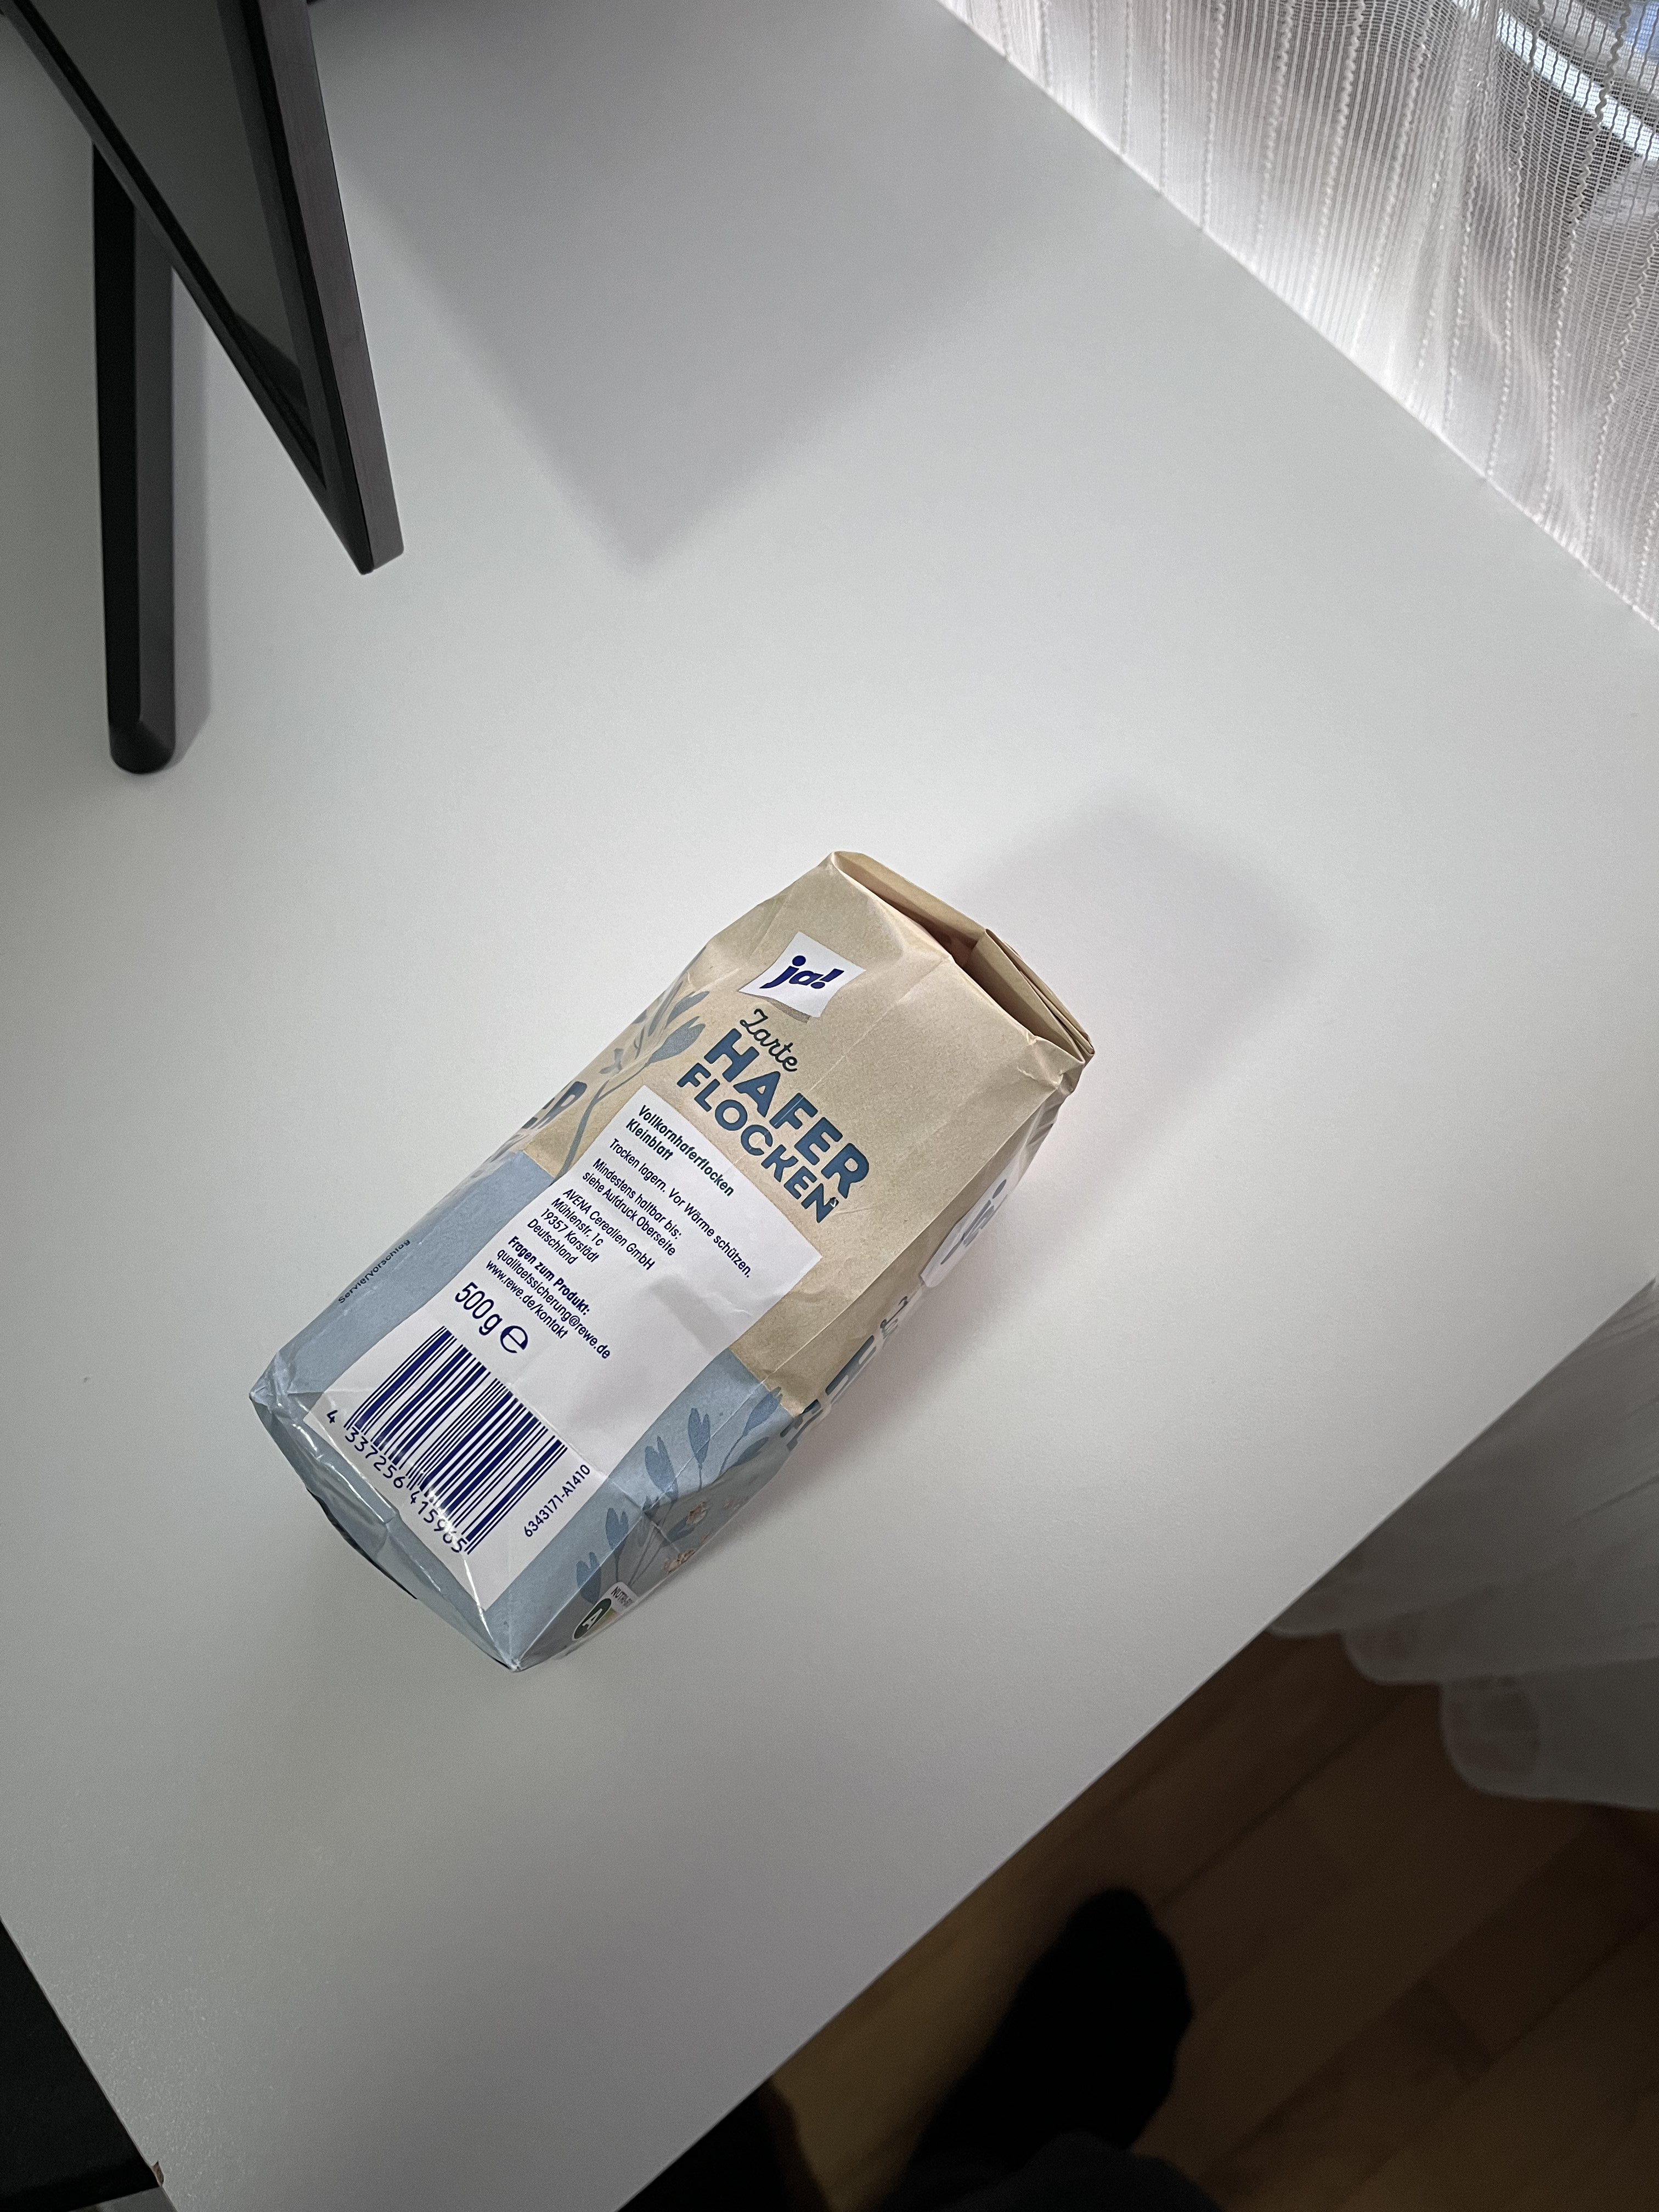haferflocken_ja: (246, 848, 1094, 1670)
